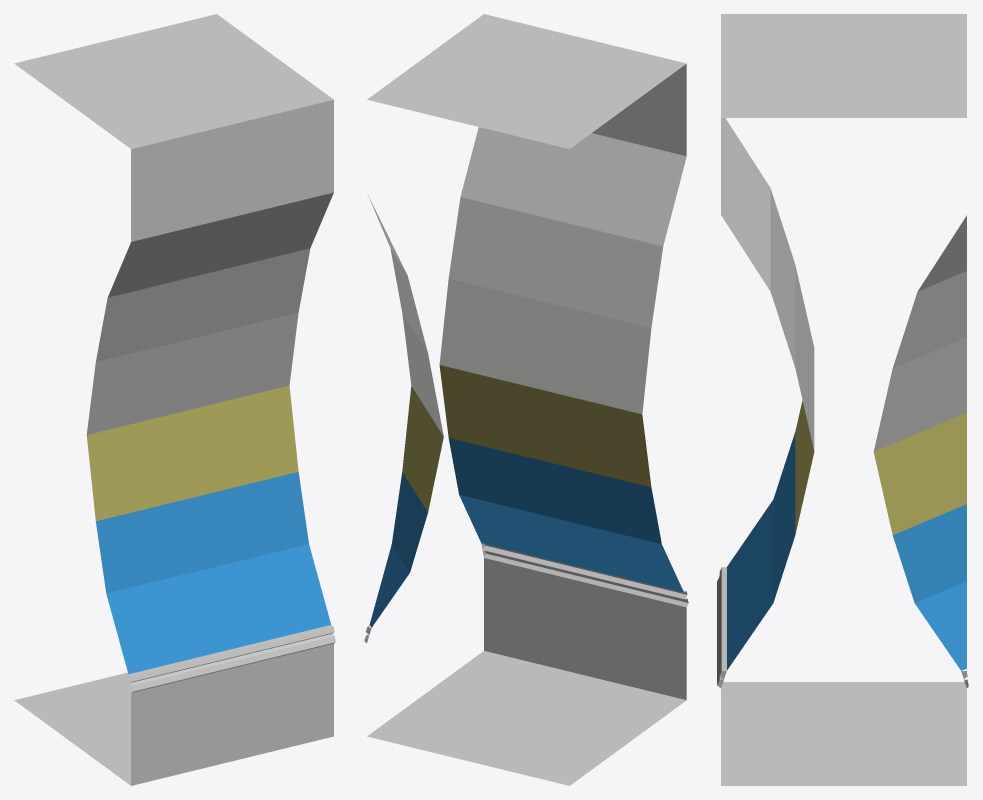
The model's file is SM_Corner_L_Conector.fbx.
3 views of the same model, side by side, from view 1: azimuth 30°, elevation 25°; view 2: azimuth 150°, elevation 25°; view 3: azimuth 270°, elevation 25° (orthographic). The views are drawn at different scales.
Parts seen in each view (by area): view 1: SM_Wall_Edge_OneSide.003; view 2: SM_Wall_Edge_OneSide.003; view 3: SM_Wall_Edge_OneSide.003.
Part boxes in pixels (x1,y1,x2,y2): SM_Wall_Edge_OneSide.003: [14, 14, 335, 785]; SM_Wall_Edge_OneSide.003: [364, 14, 688, 785]; SM_Wall_Edge_OneSide.003: [717, 14, 968, 785].
Size of the model in its own units: 202 by 600 by 205.
